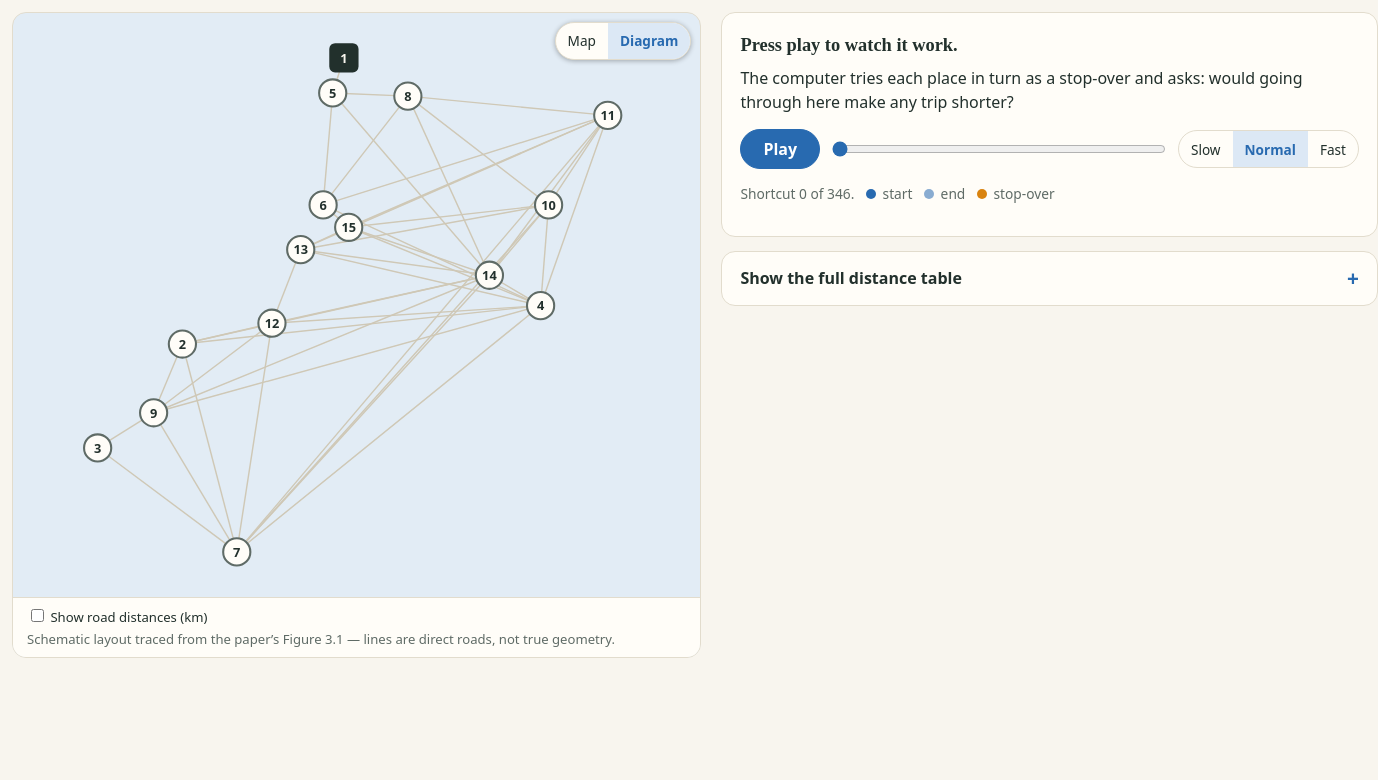
Scenario: the animated demos play by themselves › Floyd–Warshall demo stops at the end and offers to watch again
Click the button "Fast": click(1333, 149) top-left (1308, 131), bottom-right (1358, 167)
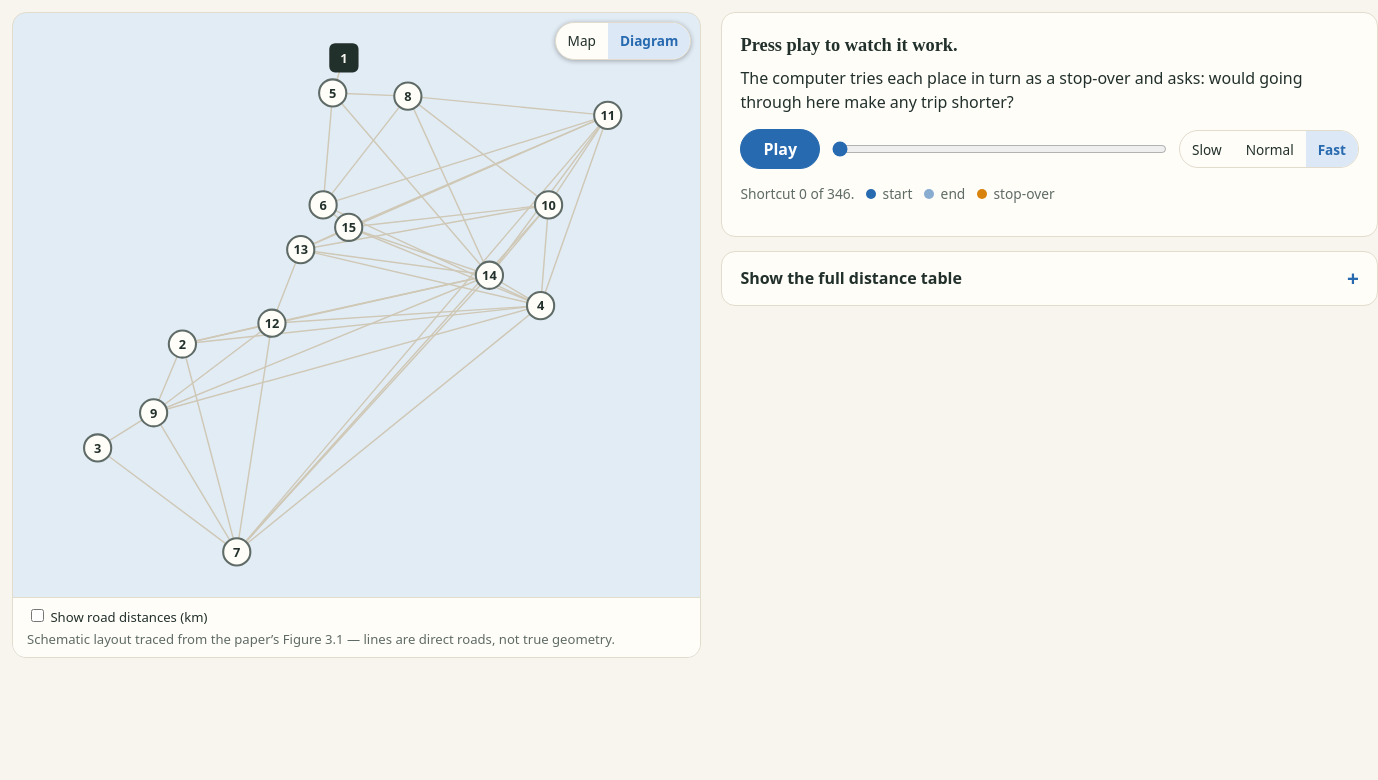
Click the button "Play": click(780, 149) top-left (740, 129), bottom-right (820, 169)
Wait 60000 ms
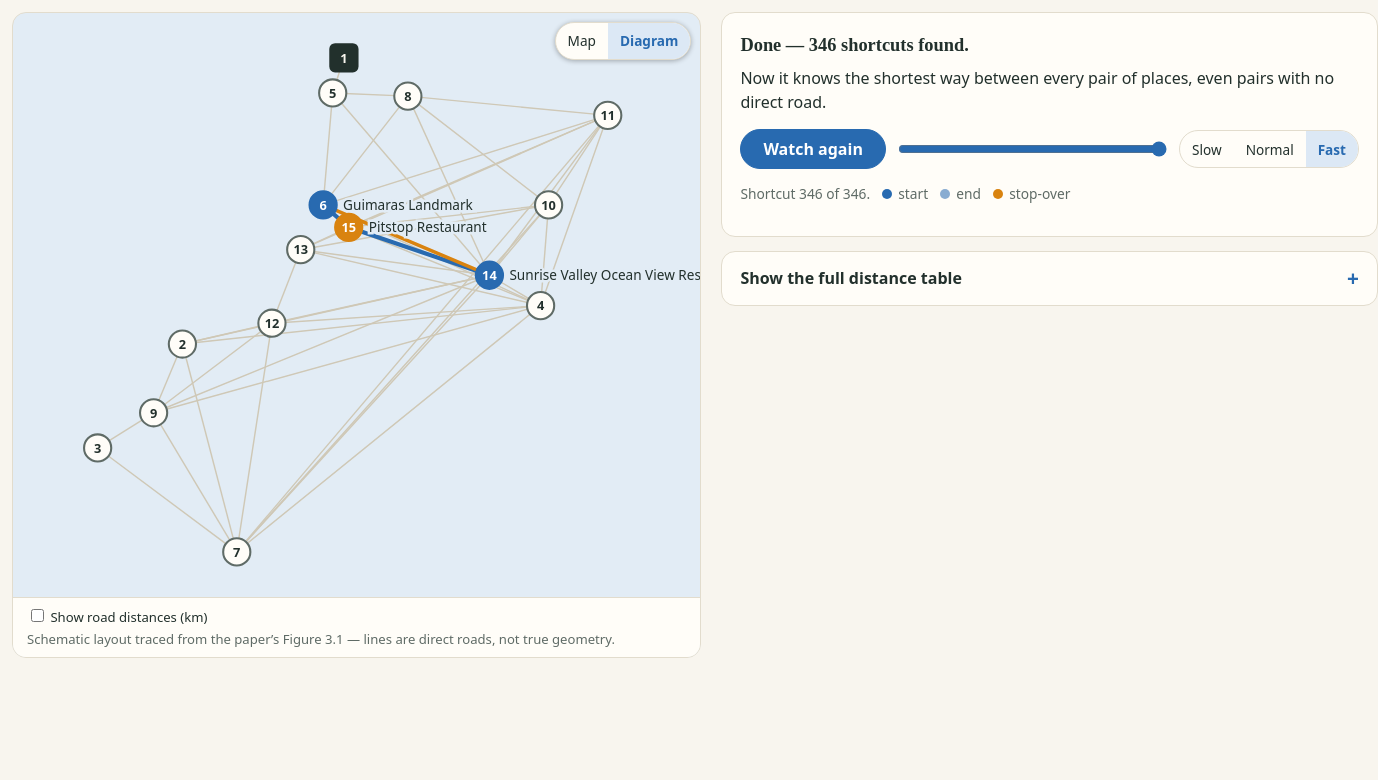
Expected: the text "shortcuts found" is shown, top-left (740, 35), bottom-right (969, 55)
Expected: the text "Watch again" is shown, top-left (740, 129), bottom-right (886, 169)
